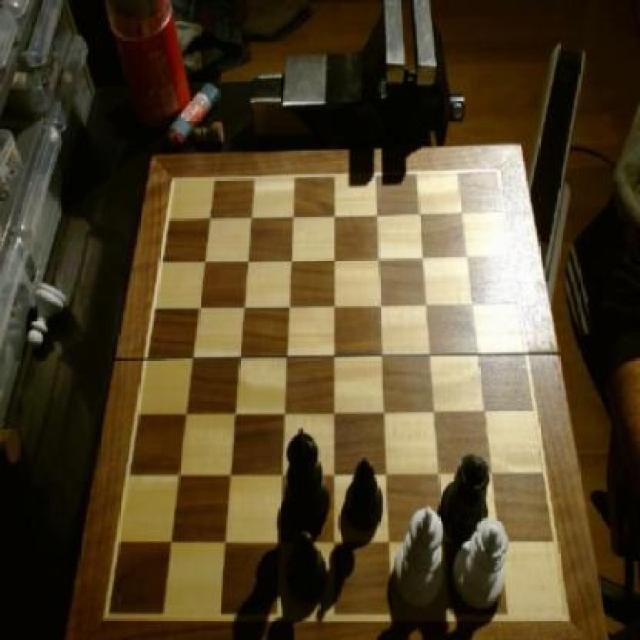bishop: (284, 525, 332, 619), (344, 458, 384, 538)
black-bishop: (394, 503, 447, 612)
black-pawn: (282, 423, 334, 539), (456, 512, 512, 608), (442, 449, 493, 545)
